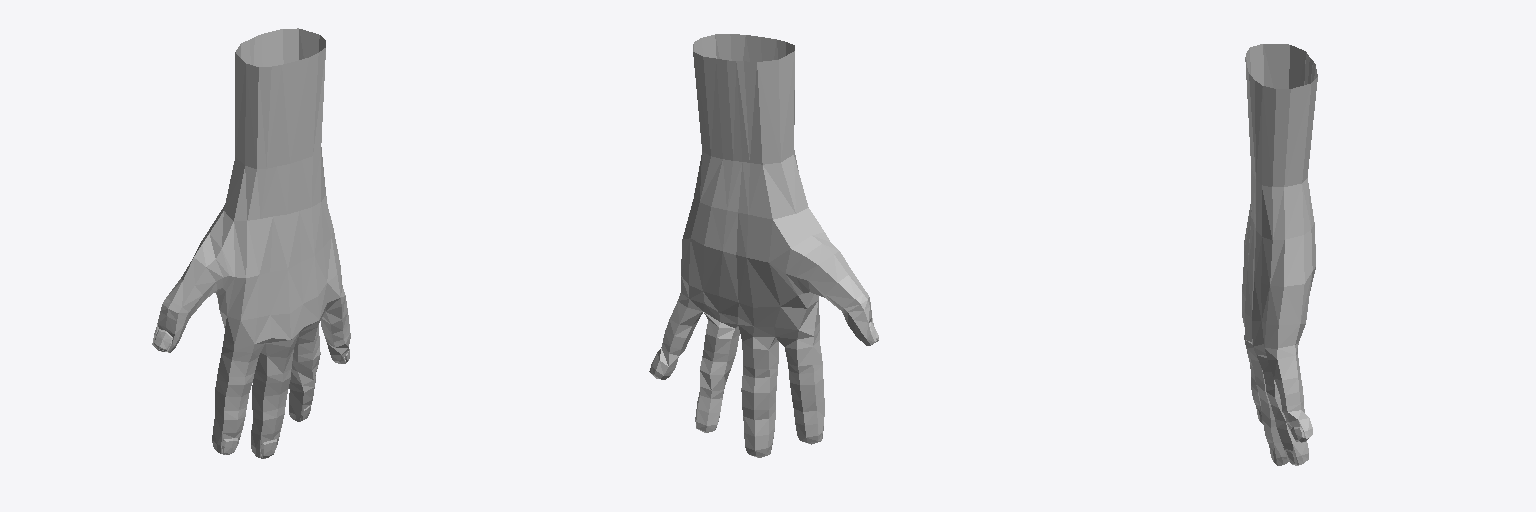
File: handAnimated4_000077.obj
3 views of the same model, side by side, from view 1: azimuth 30°, elevation 25°; view 2: azimuth 150°, elevation 25°; view 3: azimuth 270°, elevation 25° (orthographic).
Parts seen in each view (by area): view 1: Cube.000_Cube.017_Detached_Detached; view 2: Cube.000_Cube.017_Detached_Detached; view 3: Cube.000_Cube.017_Detached_Detached.
Boxes of the visible parts, box(x1,y1,x2,y2) form: Cube.000_Cube.017_Detached_Detached: box(152, 28, 350, 458); Cube.000_Cube.017_Detached_Detached: box(649, 34, 878, 457); Cube.000_Cube.017_Detached_Detached: box(1242, 44, 1317, 465).
Bounding box in the file's own units: 0.7274 × 1.34 × 0.2275.